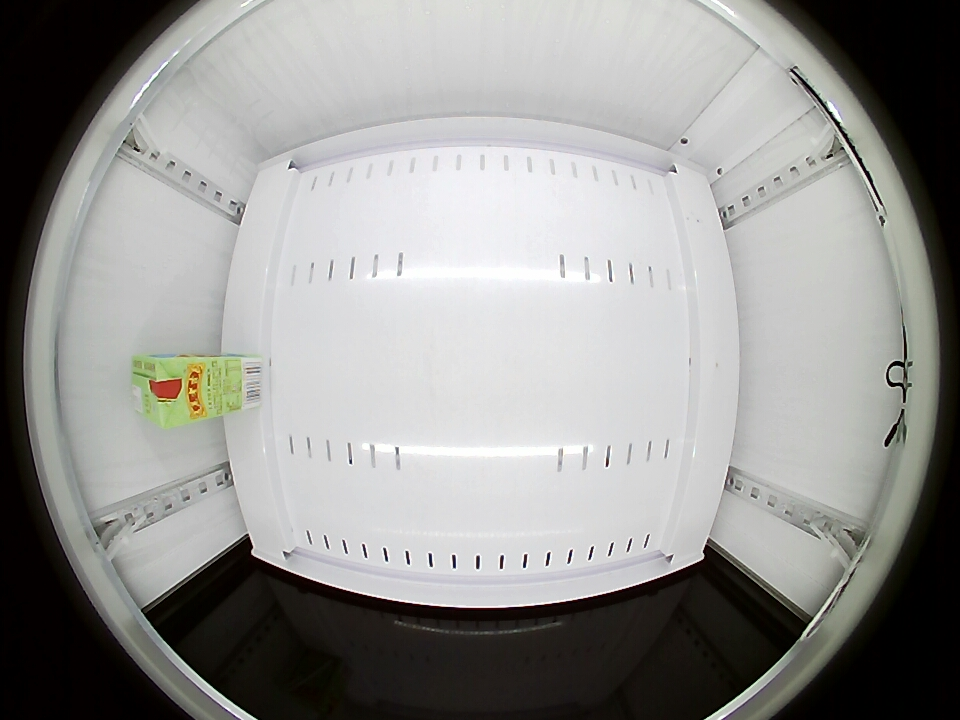wanglaoji: (131, 354, 202, 428)
